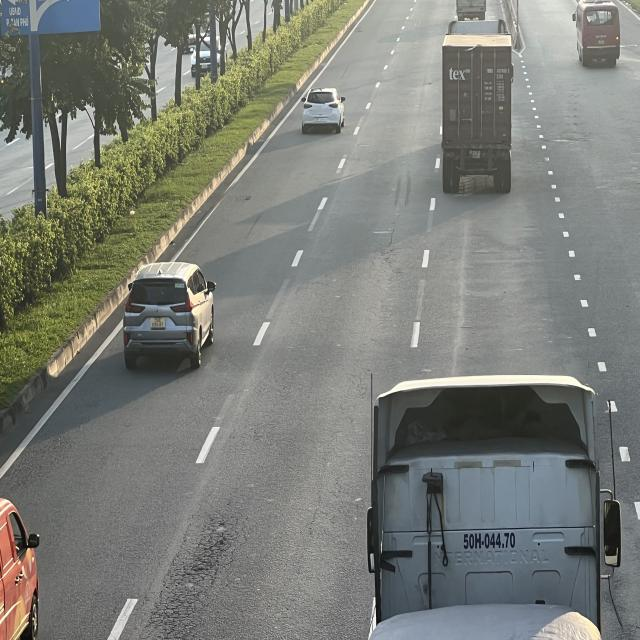car: (122, 262, 218, 374), (300, 87, 345, 131)
coach: (570, 0, 620, 65)
container: (362, 370, 618, 637), (442, 27, 516, 191)
